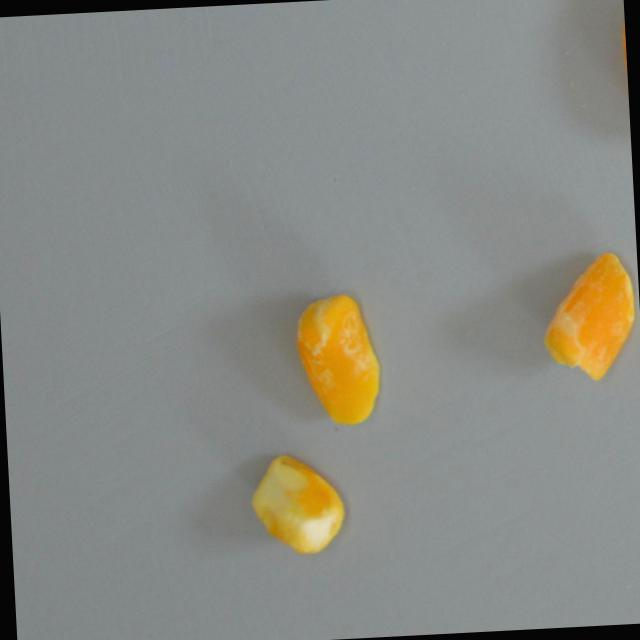estandar: (244, 447, 347, 558)
pelicula: (277, 286, 393, 430), (527, 241, 640, 385), (613, 15, 632, 153)
